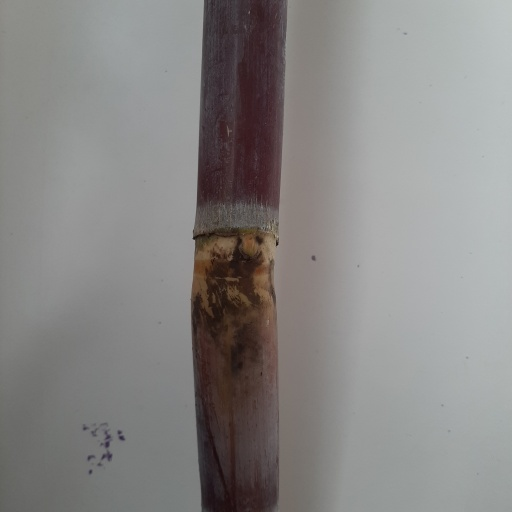Bud: (237, 234, 262, 263)
